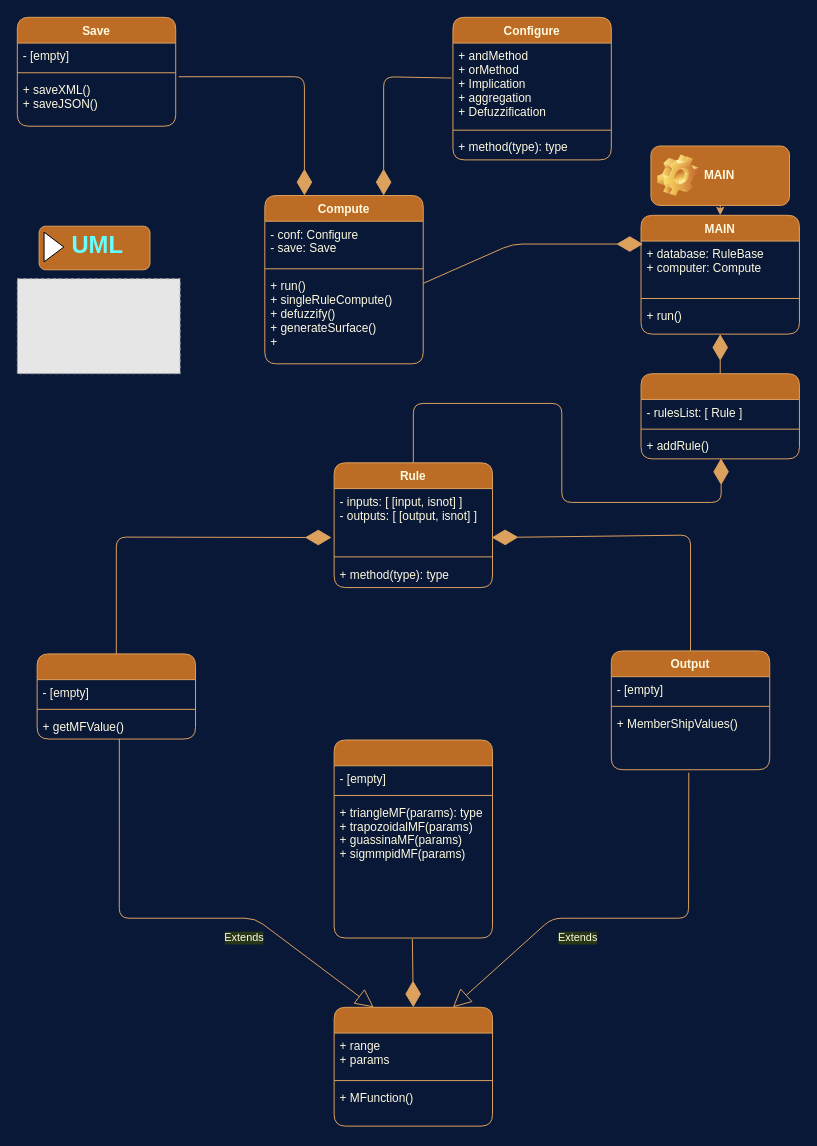
The diagram is 817 pixels wide and 1146 high, and some of its shapes have lost their labels. Grey dashed boxes stand in for pictures. The shapes that lost their labels are listed below. From the top down, each one's box as (x1, y1, x2, y2) in pixels, then its label:
(640, 373, 799, 459): RuleBase
(36, 653, 196, 739): Input
(333, 739, 493, 938): MemberShip function
(333, 1006, 493, 1126): Variable
